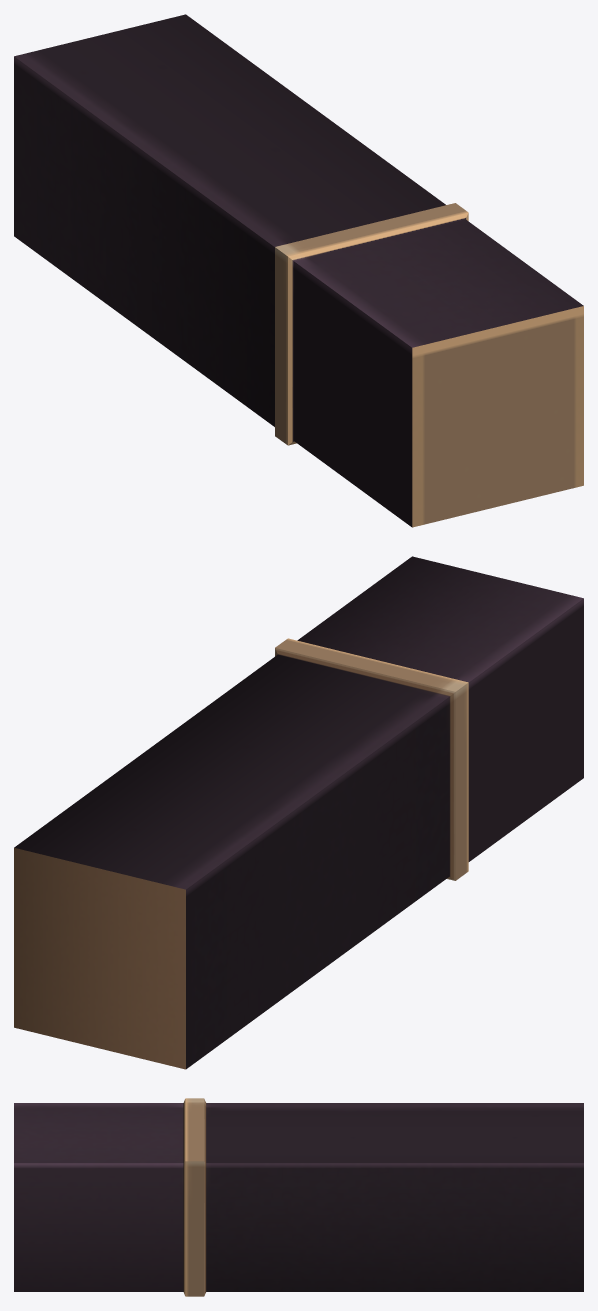
File: XiuXiShi_01_kouhong_01.FBX
3 views of the same model, one above another, from view 1: azimuth 30°, elevation 25°; view 2: azimuth 150°, elevation 25°; view 3: azimuth 270°, elevation 25° (orthographic). The views are drawn at different scales.
Visible parts, largest first — view 1: XiuXiShi_kouhong; view 2: XiuXiShi_kouhong; view 3: XiuXiShi_kouhong.
Boxes of the visible parts, box(x1,y1,x2,y2) form: XiuXiShi_kouhong: box(14, 14, 583, 527); XiuXiShi_kouhong: box(14, 556, 583, 1069); XiuXiShi_kouhong: box(14, 1098, 583, 1296).
Bounding box in the file's own units: 12.01 × 12.01 × 45.8.
